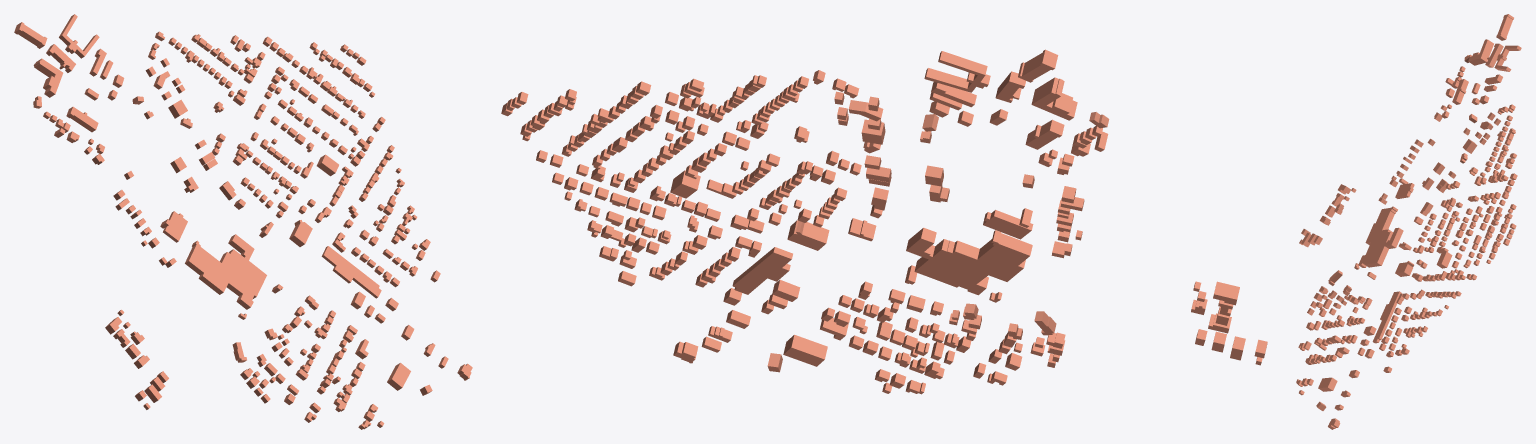
The picture shows the model from 3 angles, left to right: view 1: azimuth 30°, elevation 25°; view 2: azimuth 150°, elevation 25°; view 3: azimuth 270°, elevation 25°; orthographic projection. The views are drawn at different scales.
Parts seen in each view (by area): view 1: mesh; view 2: mesh; view 3: mesh.
Part boxes in pixels (x1,y1,x2,y2): mesh: [14, 14, 472, 429]; mesh: [501, 49, 1267, 394]; mesh: [1296, 14, 1521, 429].
Bounding box in the file's own units: 882 × 853 × 597.
